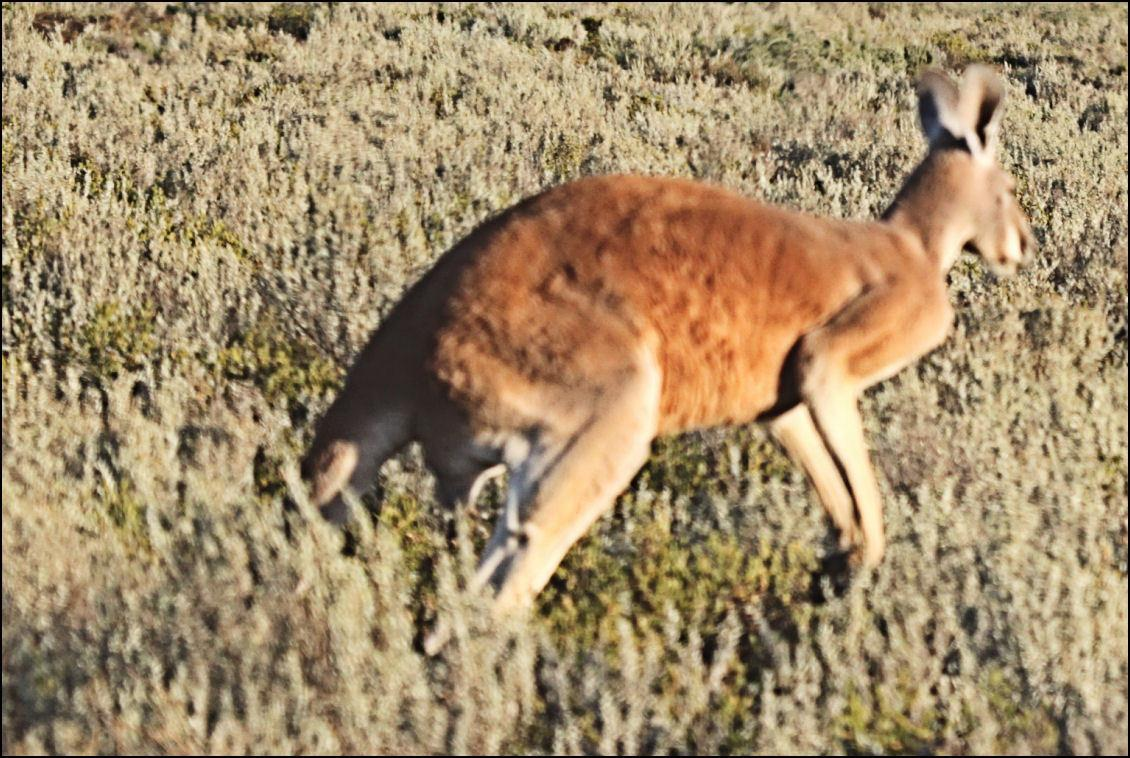Red kangaroo: (297, 64, 1030, 629)
